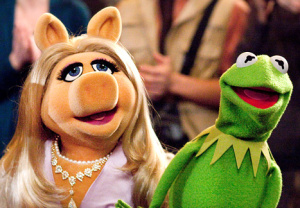kermit: (218, 49, 296, 141)
